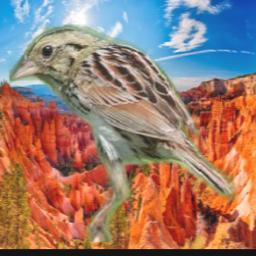Sparrow: (9, 25, 235, 242)
